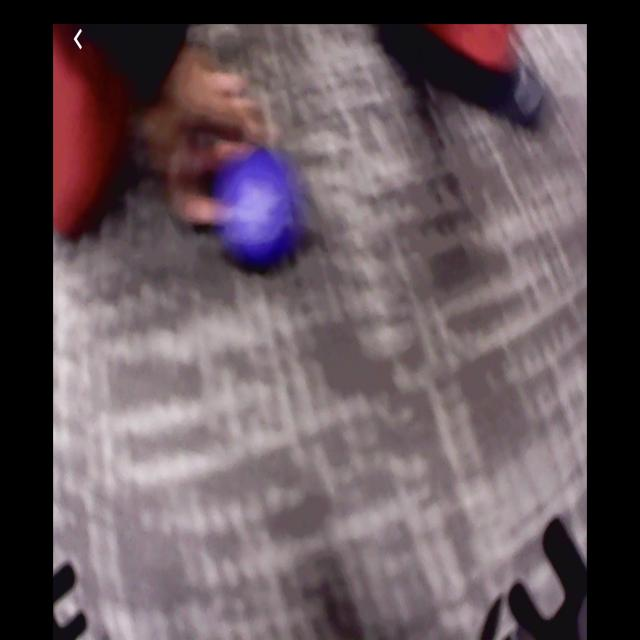ball: (219, 150, 290, 252)
